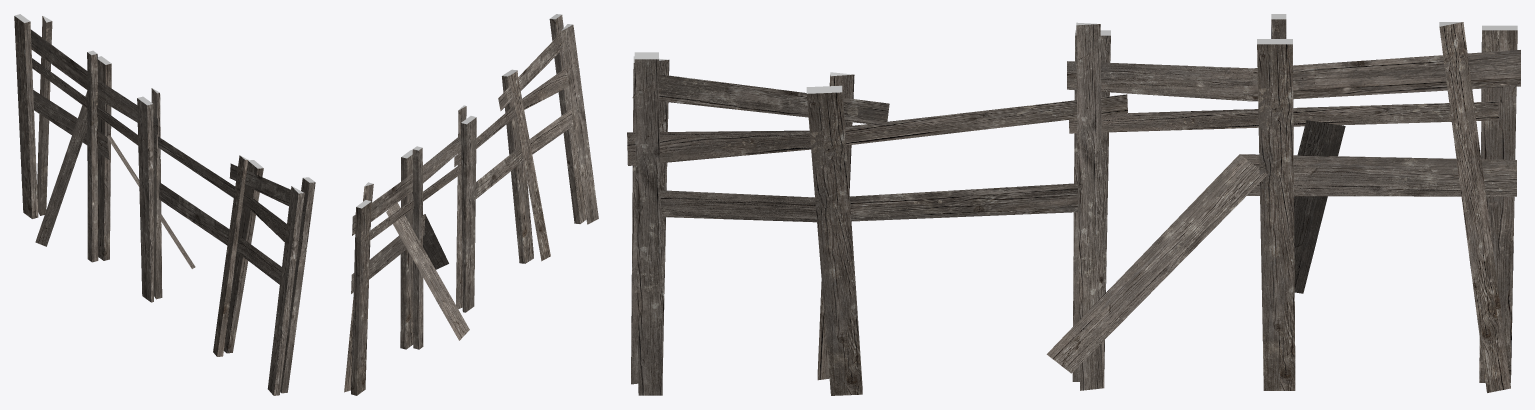
File: Fence1C_LOD1.fbx
3 renders of one model, left to right at view 1: azimuth 30°, elevation 25°; view 2: azimuth 150°, elevation 25°; view 3: azimuth 270°, elevation 25°, orthographic. The views are drawn at different scales.
Parts seen in each view (by area): view 1: polySurface1286; view 2: polySurface1286; view 3: polySurface1286.
Part boxes in pixels (x1,y1,x2,y2): polySurface1286: [14, 14, 315, 395]; polySurface1286: [344, 14, 598, 395]; polySurface1286: [627, 14, 1520, 395].
Bounding box in the file's own units: 0.9684 × 2.06 × 4.53.
